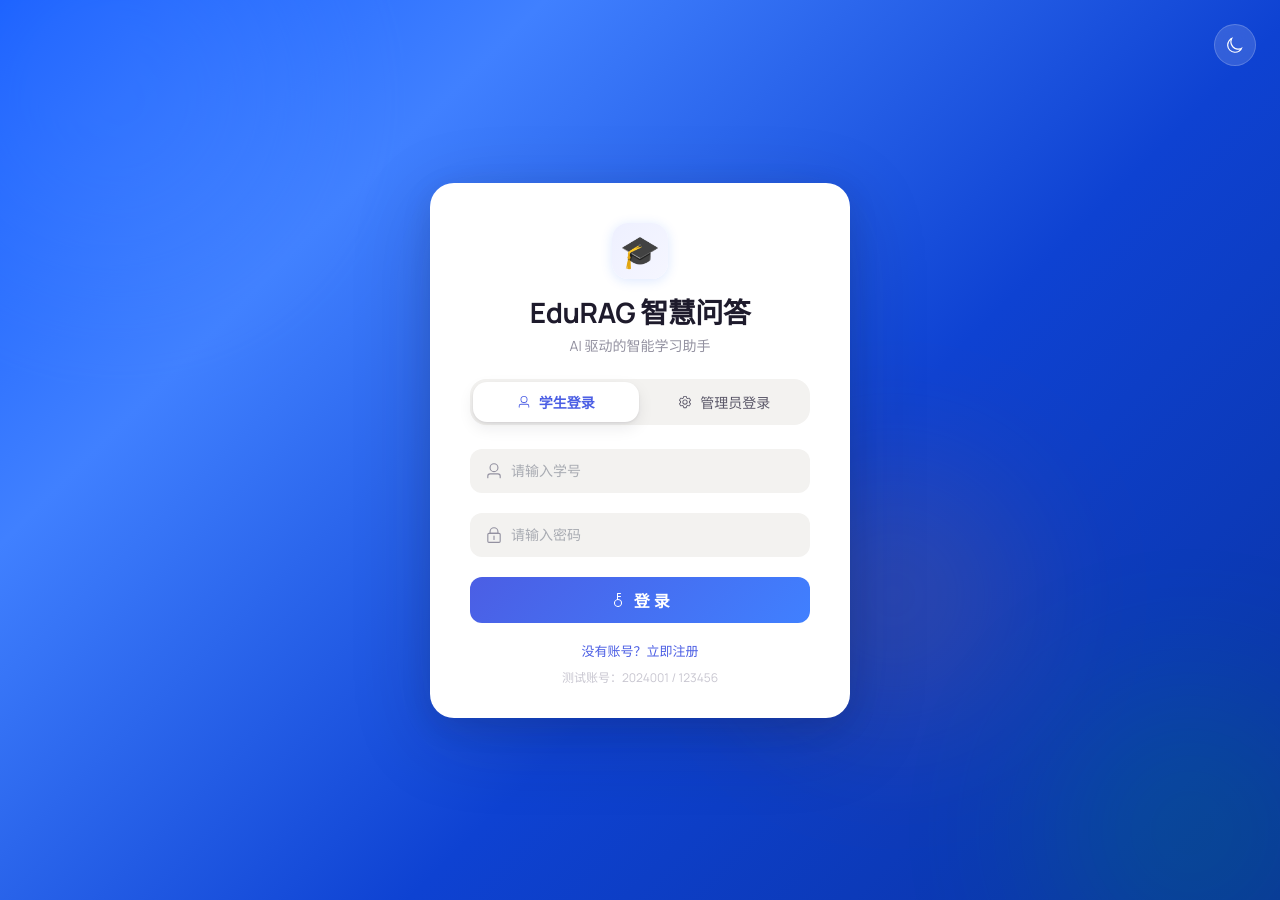
it: Login.vue › 管理端显示管理提示
Click the button with class "role-tab" showing "管理员登录": (724, 402) 642,382 -> 807,422
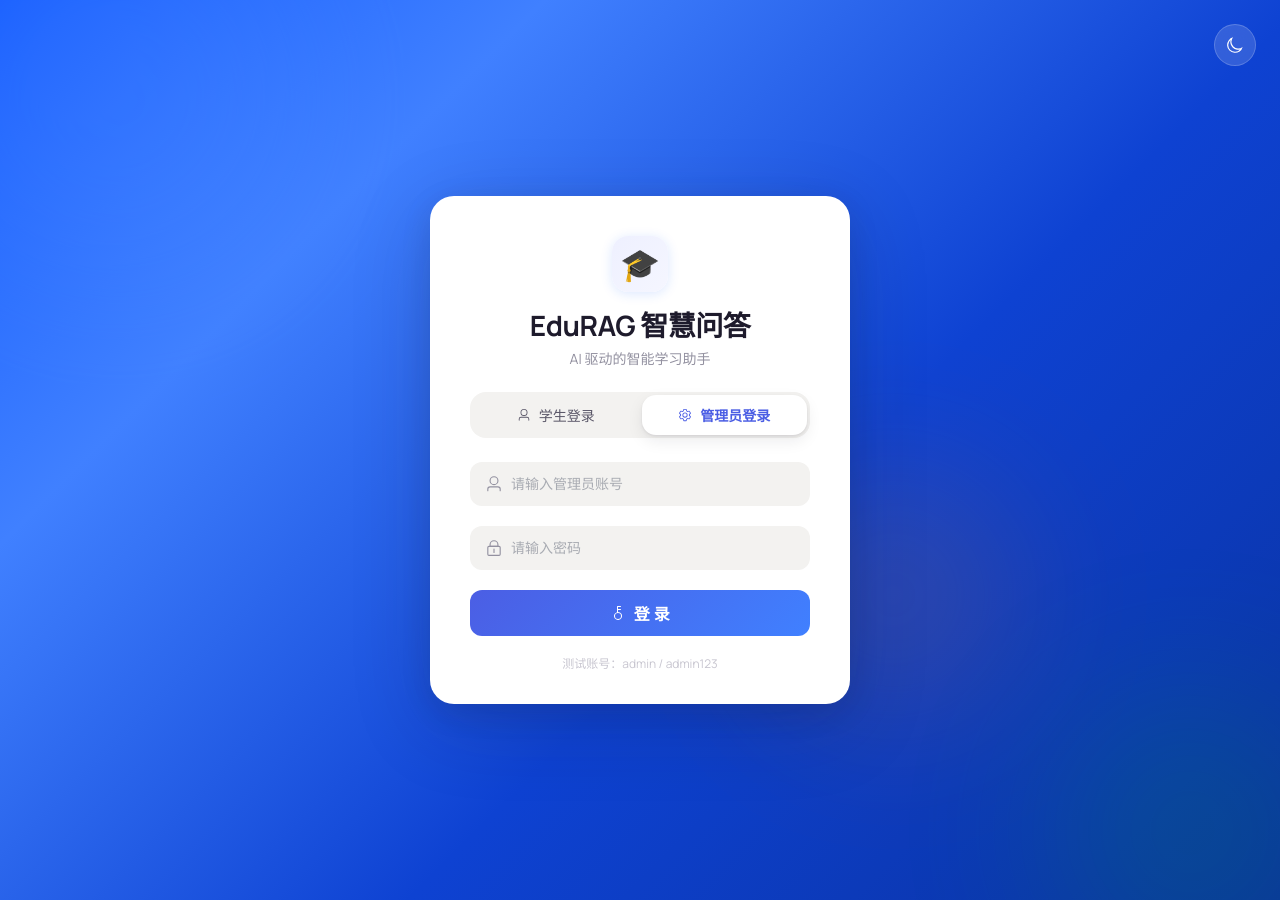
Check: the text "admin / admin123" is shown, box 562,655 -> 718,672
